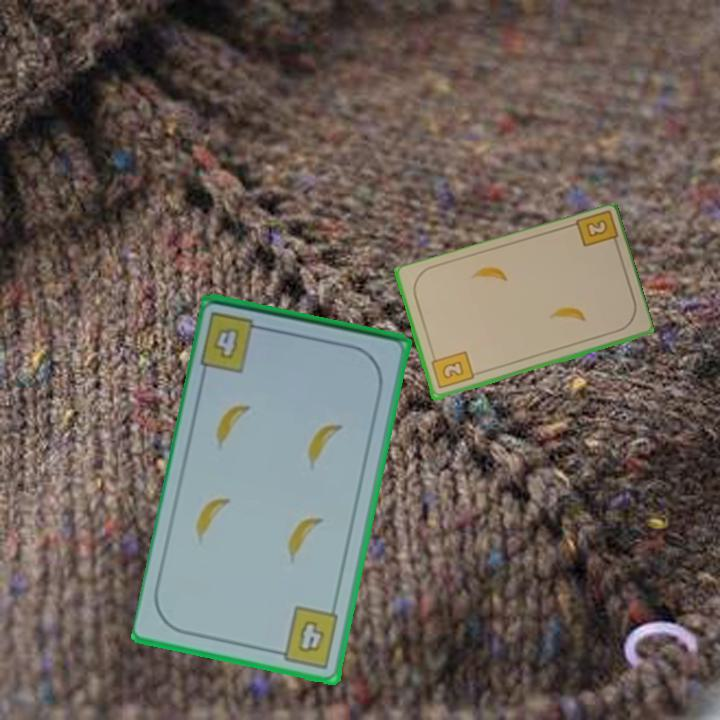2b: (571, 209, 622, 253), (428, 348, 476, 392)
4b: (197, 308, 271, 376), (271, 602, 342, 671)
